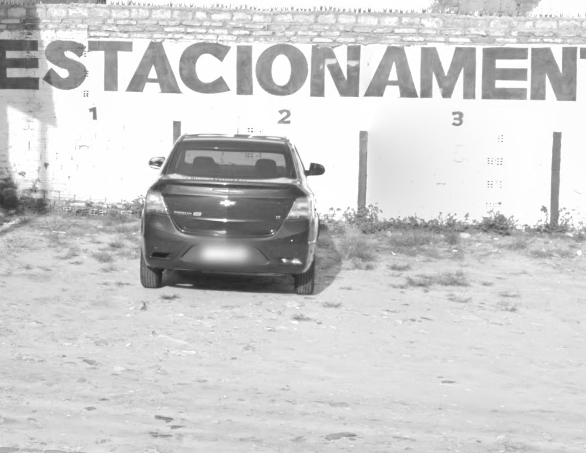car: (136, 130, 327, 296)
